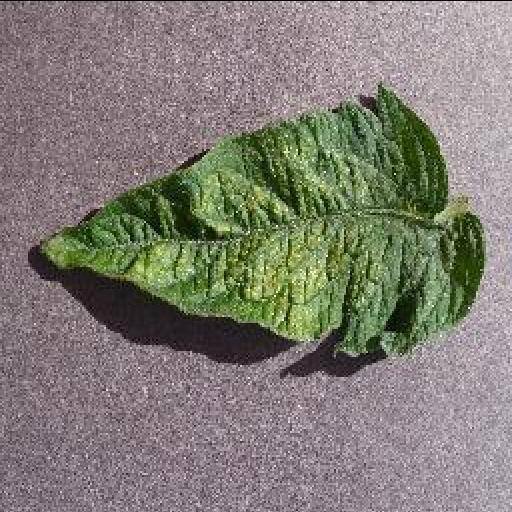disease_tomato: (38, 85, 486, 355)
